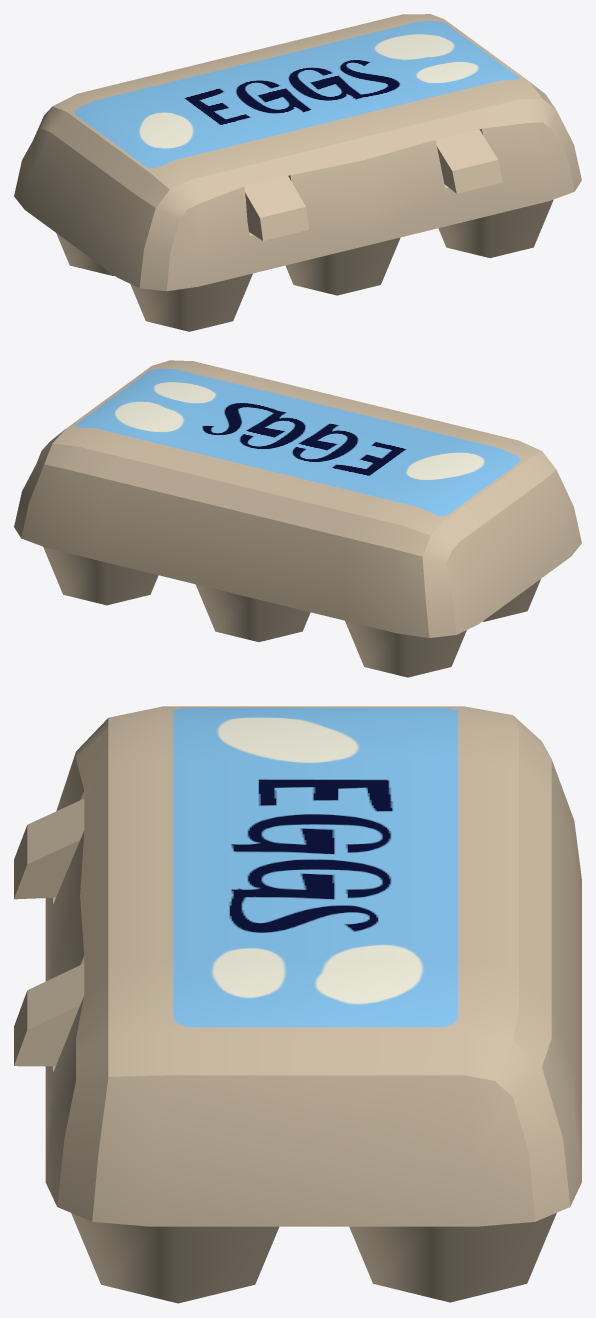
Rendered from eggBox.FBX.
3 views of the same model, one above another, from view 1: azimuth 30°, elevation 25°; view 2: azimuth 150°, elevation 25°; view 3: azimuth 270°, elevation 25° (orthographic). The views are drawn at different scales.
Parts seen in each view (by area): view 1: Box001, Cylinder006, Cylinder005, Cylinder004, Cylinder003; view 2: Box001, Cylinder003, Cylinder001, Cylinder002, Cylinder006; view 3: Box001, Cylinder004, Cylinder001.
Boxes of the visible parts, <box> form: Box001: <box>14,14,581,291</box>; Cylinder006: <box>130,273,252,331</box>; Cylinder005: <box>285,237,400,295</box>; Cylinder004: <box>438,199,553,257</box>; Cylinder003: <box>56,233,114,275</box>; Box001: <box>14,360,581,637</box>; Cylinder003: <box>345,621,466,677</box>; Cylinder001: <box>43,546,158,605</box>; Cylinder002: <box>195,584,310,641</box>; Cylinder006: <box>483,579,540,621</box>; Box001: <box>14,706,581,1226</box>; Cylinder004: <box>71,1213,279,1303</box>; Cylinder001: <box>349,1213,556,1302</box>.
Bounding box in the file's own units: 81.71 × 26.7 × 50.16.
